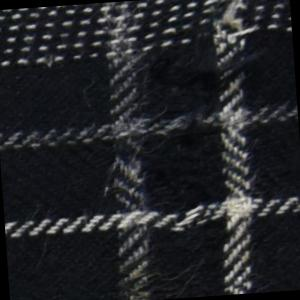Damage: (175, 1, 279, 92)
